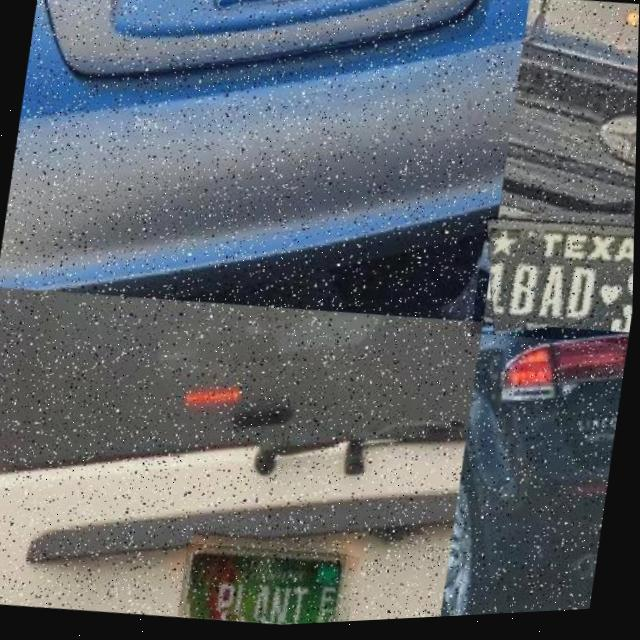LicensePlate: (487, 225, 635, 340), (182, 546, 349, 627)
